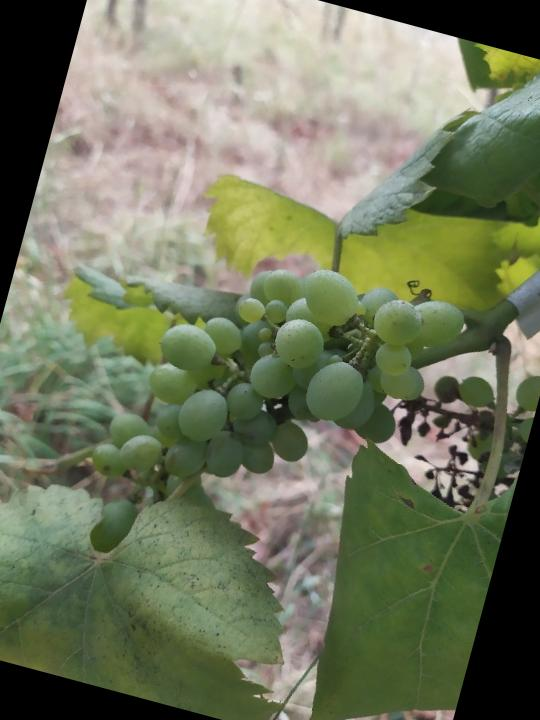grape: (85, 219, 474, 560)
